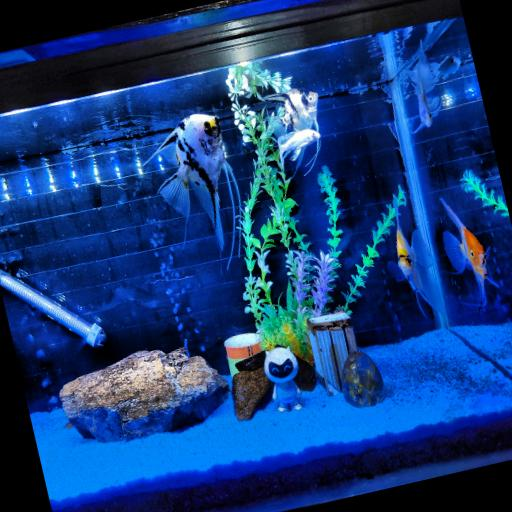Fish: (143, 114, 240, 249), (388, 198, 444, 317), (440, 198, 497, 307), (262, 89, 318, 138), (409, 51, 440, 134), (277, 129, 320, 170), (430, 57, 460, 79)
